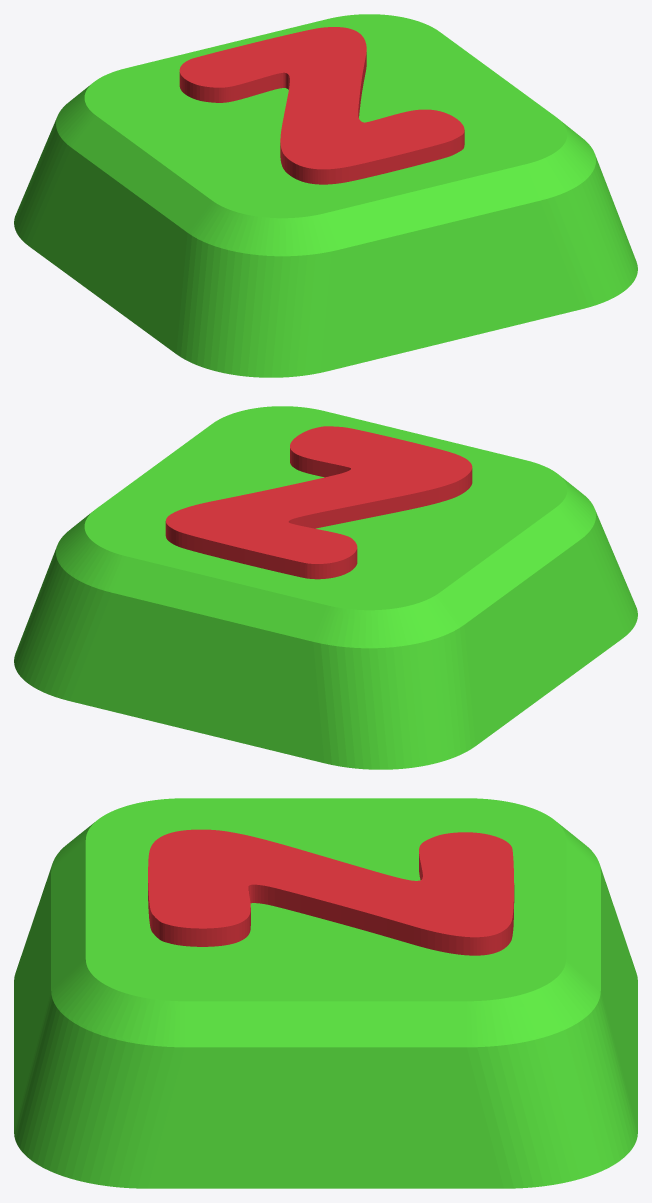
3 renders of one model, top to bottom at view 1: azimuth 30°, elevation 25°; view 2: azimuth 150°, elevation 25°; view 3: azimuth 270°, elevation 25°, orthographic. The views are drawn at different scales.
Visible parts, largest first — view 1: CAPS_Z, FONT_Z; view 2: CAPS_Z, FONT_Z; view 3: CAPS_Z, FONT_Z.
Part boxes in pixels (x1=…): CAPS_Z: x1=14, y1=14, x2=637, y2=377; FONT_Z: x1=179, y1=27, x2=464, y2=184; CAPS_Z: x1=14, y1=406, x2=637, y2=769; FONT_Z: x1=165, y1=426, x2=472, y2=579; CAPS_Z: x1=14, y1=798, x2=637, y2=1188; FONT_Z: x1=148, y1=829, x2=514, y2=955.
Bounding box in the file's own units: 18 × 5.59 × 18.
